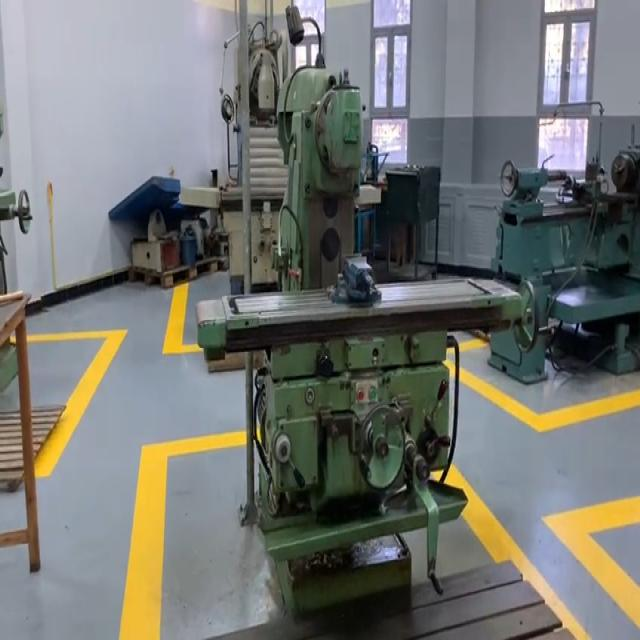fraiseuse: (197, 68, 522, 620)
